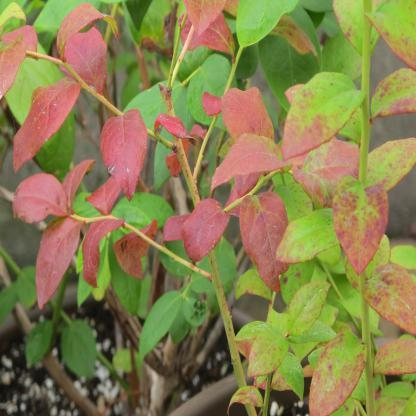Blueberry leaf: (286, 64, 372, 166), (4, 74, 86, 180), (332, 176, 396, 278), (202, 130, 292, 194), (238, 189, 295, 290), (54, 7, 113, 98), (35, 207, 84, 312), (277, 204, 351, 273), (302, 337, 367, 415), (216, 86, 276, 163), (99, 105, 147, 200), (362, 255, 416, 337), (132, 290, 190, 364), (176, 182, 231, 259), (79, 212, 128, 298), (231, 318, 292, 379), (9, 167, 64, 233), (56, 150, 102, 218), (282, 284, 338, 336)
